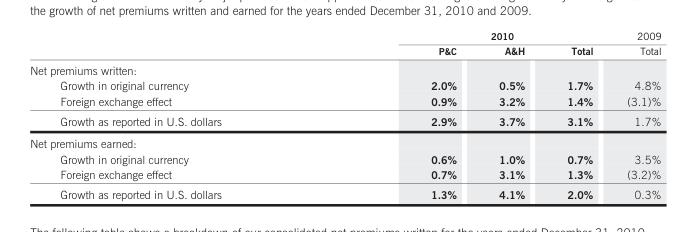table: (29, 29, 660, 200)
table column: (29, 29, 325, 200), (325, 29, 477, 200), (477, 29, 545, 200), (545, 29, 609, 200), (609, 29, 660, 200)
table column header: (29, 29, 660, 59)
table projected row header: (29, 59, 660, 77), (29, 132, 660, 150)
table row: (29, 110, 660, 132), (29, 59, 660, 77), (29, 92, 660, 110), (29, 132, 660, 150), (29, 42, 660, 59), (29, 166, 660, 183), (29, 183, 660, 200), (29, 150, 660, 166), (29, 77, 660, 92), (29, 29, 660, 42)
table spanning cell: (325, 29, 609, 42), (609, 29, 660, 59)
